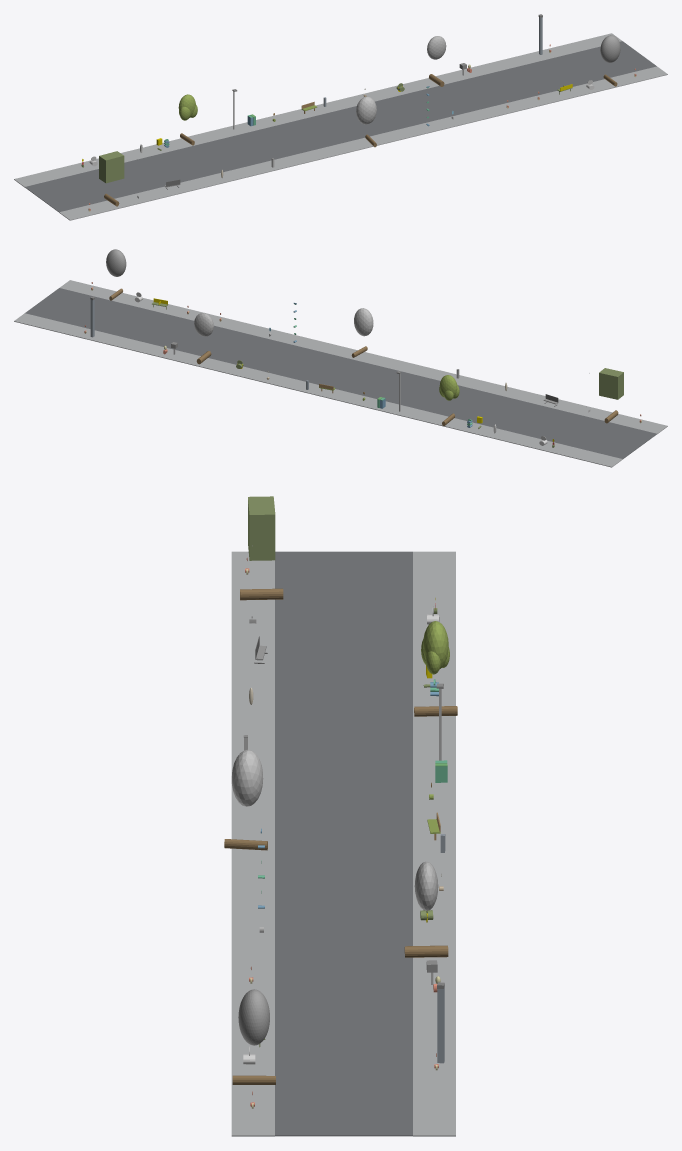
The picture shows the model from 3 angles, top to bottom: view 1: azimuth 30°, elevation 25°; view 2: azimuth 150°, elevation 25°; view 3: azimuth 270°, elevation 25°; orthographic projection. The views are drawn at different scales.
Visible parts, largest first — view 1: road_slab, sidewalk_left, sidewalk_right, inst_0012, inst_0014, inst_0016, inst_0013, inst_0015; view 2: road_slab, sidewalk_right, sidewalk_left, inst_0012, inst_0014, inst_0016, inst_0013, inst_0015; view 3: road_slab, sidewalk_left, sidewalk_right, inst_0012, inst_0014, inst_0016, inst_0013, inst_0015.
Part boxes in pixels (x1,y1,x2,y2): road_slab: [24, 41, 656, 212]; sidewalk_left: [59, 66, 667, 220]; sidewalk_right: [14, 33, 621, 187]; inst_0012: [99, 151, 124, 206]; inst_0014: [356, 96, 376, 147]; inst_0016: [600, 35, 620, 86]; inst_0013: [178, 94, 197, 145]; inst_0015: [427, 36, 446, 86]; road_slab: [25, 288, 656, 458]; sidewalk_right: [14, 313, 622, 467]; sidewalk_left: [59, 280, 667, 433]; inst_0012: [599, 368, 623, 423]; inst_0014: [351, 308, 373, 357]; inst_0016: [106, 249, 126, 300]; inst_0013: [439, 375, 459, 425]; inst_0015: [194, 313, 213, 364]; road_slab: [275, 551, 412, 1136]; sidewalk_left: [231, 551, 274, 1136]; sidewalk_right: [413, 551, 455, 1136]; inst_0012: [240, 496, 283, 600]; inst_0014: [224, 749, 267, 850]; inst_0016: [232, 989, 275, 1084]; inst_0013: [414, 621, 457, 716]; inst_0015: [404, 861, 448, 957].
Size of the model in its own units: 80 by 6.08 by 13.51.
